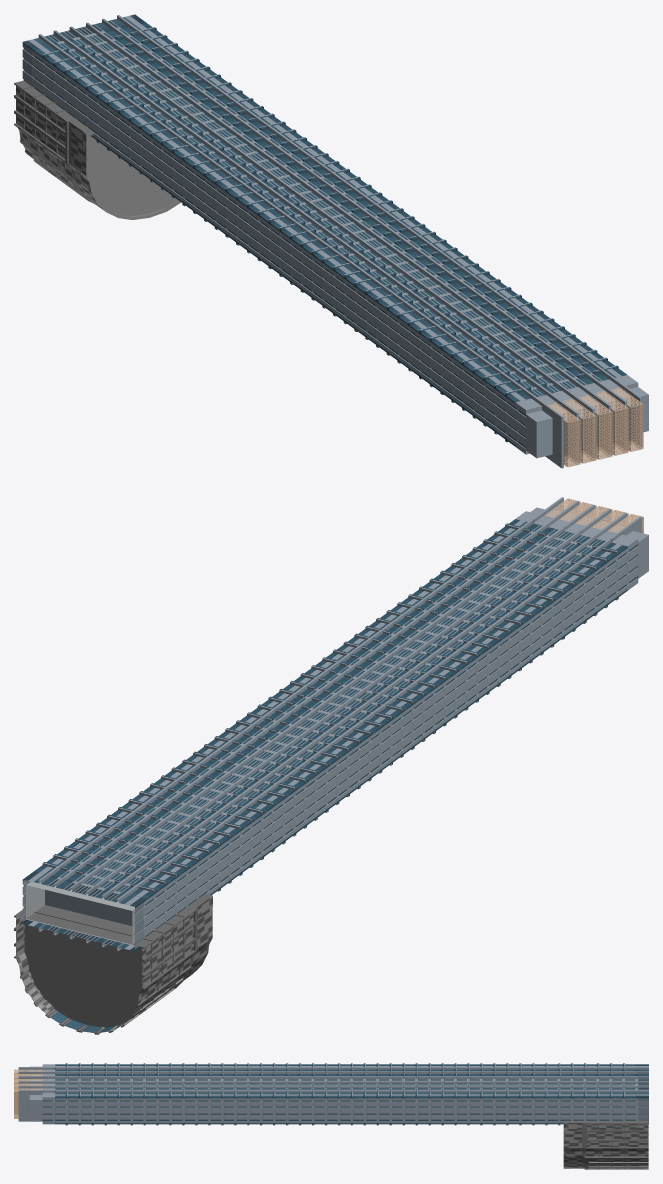
Rendered from burj-crown.glb.
3 views of the same model, one above another, from view 1: azimuth 30°, elevation 25°; view 2: azimuth 150°, elevation 25°; view 3: azimuth 270°, elevation 25° (orthographic). The views are drawn at different scales.
Visible parts, largest first — view 1: Object_3, Object_4, Object_5, Object_2, Object_6, Object_7; view 2: Object_3, Object_5, Object_4, Object_2, Object_6, Object_7, Object_9; view 3: Object_3, Object_5, Object_4, Object_2, Object_6, Object_7.
Part boxes in pixels (x1=…): Object_3: x1=22, y1=15, x2=648, y2=468; Object_4: x1=22, y1=14, x2=626, y2=446; Object_5: x1=23, y1=20, x2=602, y2=448; Object_2: x1=14, y1=80, x2=180, y2=219; Object_6: x1=42, y1=27, x2=618, y2=442; Object_7: x1=548, y1=387, x2=643, y2=467; Object_3: x1=22, y1=497, x2=648, y2=950; Object_5: x1=23, y1=525, x2=637, y2=945; Object_4: x1=22, y1=519, x2=627, y2=1032; Object_2: x1=14, y1=894, x2=212, y2=1034; Object_6: x1=43, y1=523, x2=618, y2=891; Object_7: x1=544, y1=498, x2=643, y2=533; Object_9: x1=26, y1=881, x2=134, y2=945; Object_3: x1=18, y1=1064, x2=648, y2=1124; Object_5: x1=42, y1=1079, x2=648, y2=1120; Object_4: x1=55, y1=1064, x2=648, y2=1124; Object_2: x1=563, y1=1120, x2=648, y2=1169; Object_6: x1=65, y1=1063, x2=625, y2=1125; Object_7: x1=14, y1=1069, x2=42, y2=1118.
Size of the model in its own units: 29.04 by 30.37 by 203.
7 materials, 6 textured.
